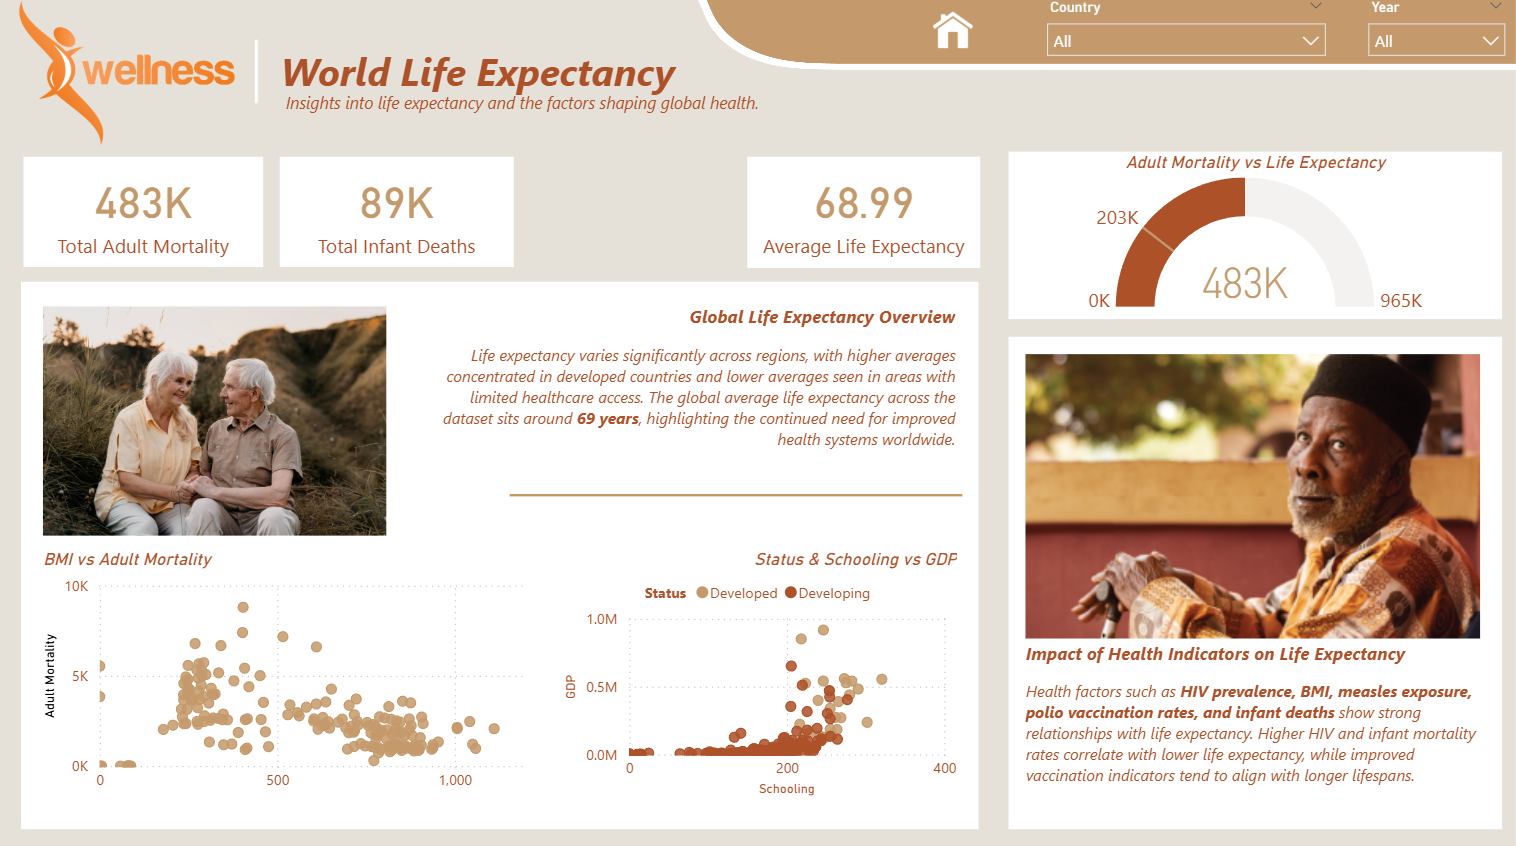

This screenshot's page, from the dashboard's own definition file:
{"tool":"powerbi","page":{"name":"HOME PAGE","canvas":[1280,720],"ordinal":0},"visuals":[{"type":"image","box":[0,0,1280,720.5],"z":0},{"type":"slicer","fields":{"Values":["world_life_expectancy.Year"]},"box":[1144.3,0,135.7,62.4],"z":1000},{"type":"slicer","fields":{"Values":["world_life_expectancy.Country"]},"box":[874.1,0,254.6,54],"z":2000},{"type":"card","fields":{"Values":["Sum(world_life_expectancy.Adult Mortality)"]},"box":[22.7,137.7,201.7,92.5],"z":3000},{"type":"card","fields":{"Values":["Sum(world_life_expectancy.Infant Deaths)"]},"box":[238.8,137.7,196.9,92.5],"z":4000},{"type":"image","box":[782.9,9.6,43.2,43.2],"z":5000},{"type":"image","box":[0,0,219.7,133.3],"z":6000},{"type":"textbox","box":[234.1,38.4,548.7,56.4],"z":7000},{"type":"image","box":[87.7,27.6,264.2,78],"z":8000},{"type":"textbox","box":[238.9,78,453.9,33.6],"z":9000},{"type":"shape","box":[21,242.9,805.4,460.5],"z":10000},{"type":"image","box":[34.8,229.3,299,261.8],"z":11000},{"type":"card","fields":{"Values":["Avg(world_life_expectancy.Life expectancy)"]},"box":[632,137.4,196.2,93.2],"z":12000},{"type":"shape","box":[851.6,289.1,415.3,414.3],"z":13000},{"type":"image","box":[861.5,273.3,392.3,300.5],"z":14000},{"type":"scatterChart","title":"BMI vs Adult Mortality","fields":{"X":["Sum(world_life_expectancy.BMI)"],"Y":["Sum(world_life_expectancy.Adult Mortality)"],"Category":["world_life_expectancy.Country"]},"box":[34.8,468.3,431.1,212.5],"z":15000},{"type":"textbox","box":[564.9,256.3,247.7,33.4],"z":16000},{"type":"textbox","box":[359,289.7,453.6,109.9],"z":17000},{"type":"textbox","box":[861.2,573.2,392.3,119.7],"z":18000},{"type":"textbox","box":[861.5,540.4,349.2,33.4],"z":19000},{"type":"gauge","title":"Adult Mortality vs Life Expectancy","fields":{"Y":["Sum(world_life_expectancy.Adult Mortality)"],"TargetValue":["Sum(world_life_expectancy.Life expectancy)"]},"box":[851.3,133.3,415.5,140.5],"z":20000},{"type":"scatterChart","title":"Status & Schooling vs GDP  ","fields":{"X":["Sum(world_life_expectancy.Schooling)"],"Y":["Sum(world_life_expectancy.GDP)"],"Series":["world_life_expectancy.Status"],"Category":["world_life_expectancy.Country"]},"box":[473.1,468.3,339.8,212.5],"z":21000},{"type":"shape","box":[432.3,272.6,380.6,300.2],"z":22000}]}

Visuals, with their boxes in screenshot pixels (x1, y1, x2, y2), scaled from the page's 1280x720 canvas onto the 1516x846 screenshot:
image: [x1=0, y1=0, x2=1515, y2=845]
slicer - world_life_expectancy.Year: [x1=1355, y1=0, x2=1515, y2=73]
slicer - world_life_expectancy.Country: [x1=1035, y1=0, x2=1337, y2=63]
card - Sum(world_life_expectancy.Adult Mortality): [x1=27, y1=162, x2=266, y2=270]
card - Sum(world_life_expectancy.Infant Deaths): [x1=283, y1=162, x2=516, y2=270]
image: [x1=927, y1=11, x2=978, y2=62]
image: [x1=0, y1=0, x2=260, y2=157]
textbox: [x1=277, y1=45, x2=927, y2=111]
image: [x1=104, y1=32, x2=417, y2=124]
textbox: [x1=283, y1=92, x2=821, y2=131]
shape: [x1=25, y1=285, x2=979, y2=826]
image: [x1=41, y1=269, x2=395, y2=577]
card - Avg(world_life_expectancy.Life expectancy): [x1=749, y1=161, x2=981, y2=271]
shape: [x1=1009, y1=340, x2=1500, y2=826]
image: [x1=1020, y1=321, x2=1485, y2=674]
"BMI vs Adult Mortality" scatterChart: [x1=41, y1=550, x2=552, y2=800]
textbox: [x1=669, y1=301, x2=962, y2=340]
textbox: [x1=425, y1=340, x2=962, y2=470]
textbox: [x1=1020, y1=674, x2=1485, y2=814]
textbox: [x1=1020, y1=635, x2=1434, y2=674]
"Adult Mortality vs Life Expectancy" gauge: [x1=1008, y1=157, x2=1500, y2=322]
"Status & Schooling vs GDP  " scatterChart: [x1=560, y1=550, x2=963, y2=800]
shape: [x1=512, y1=320, x2=963, y2=673]
